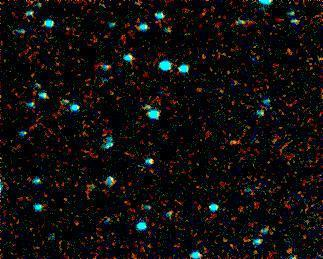star: (224, 125, 254, 155)
